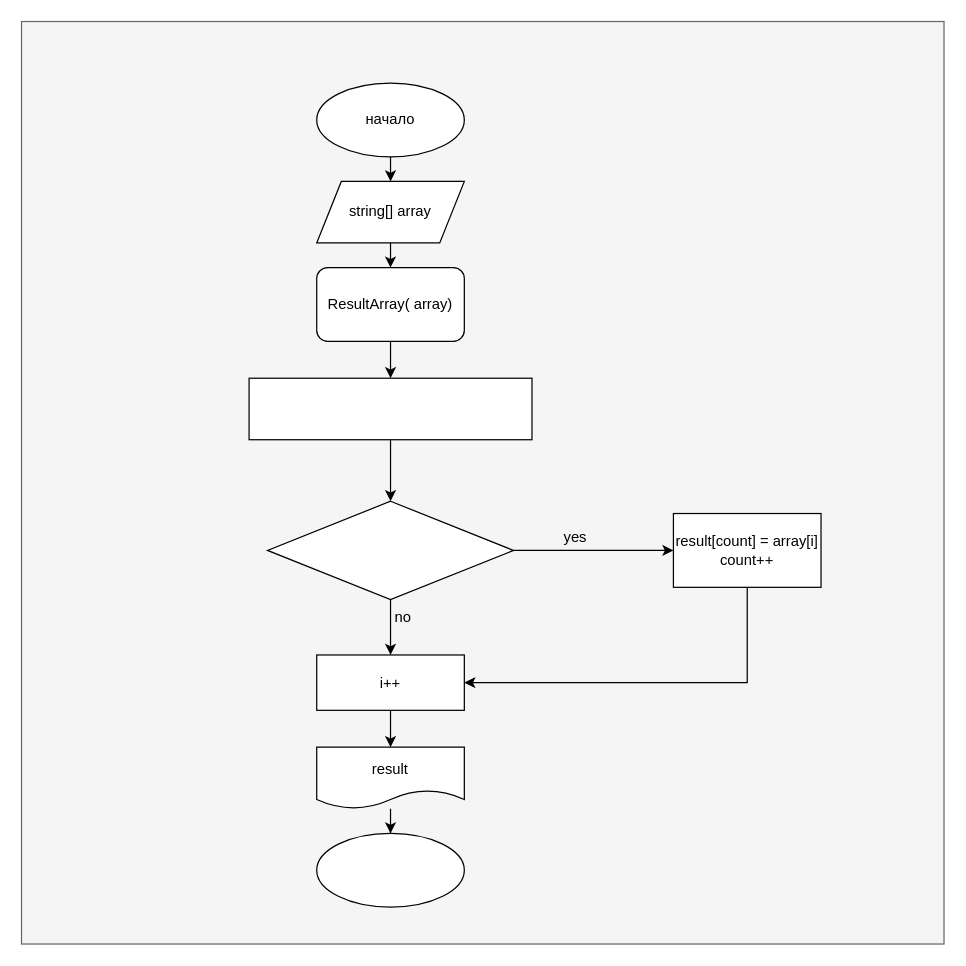
Image size: 966x966. Some labels were removed from this diagram. Here are the shapes that lost their labels. From the top down, the centre of each, then its label:
At (x=390, y=408): "int count = 0; string[] result = new string[array.Length]".
At (x=390, y=550): "if (array[i].Length <= 3)".
At (x=389, y=869): "конец".
